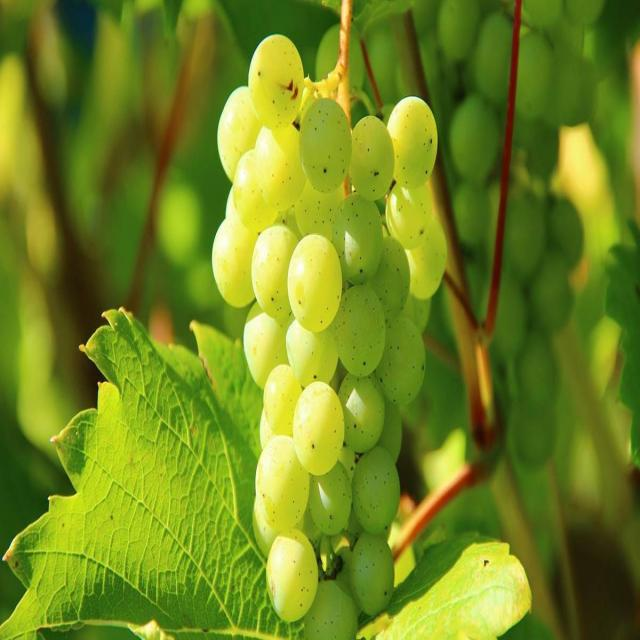grape: (209, 29, 443, 640)
